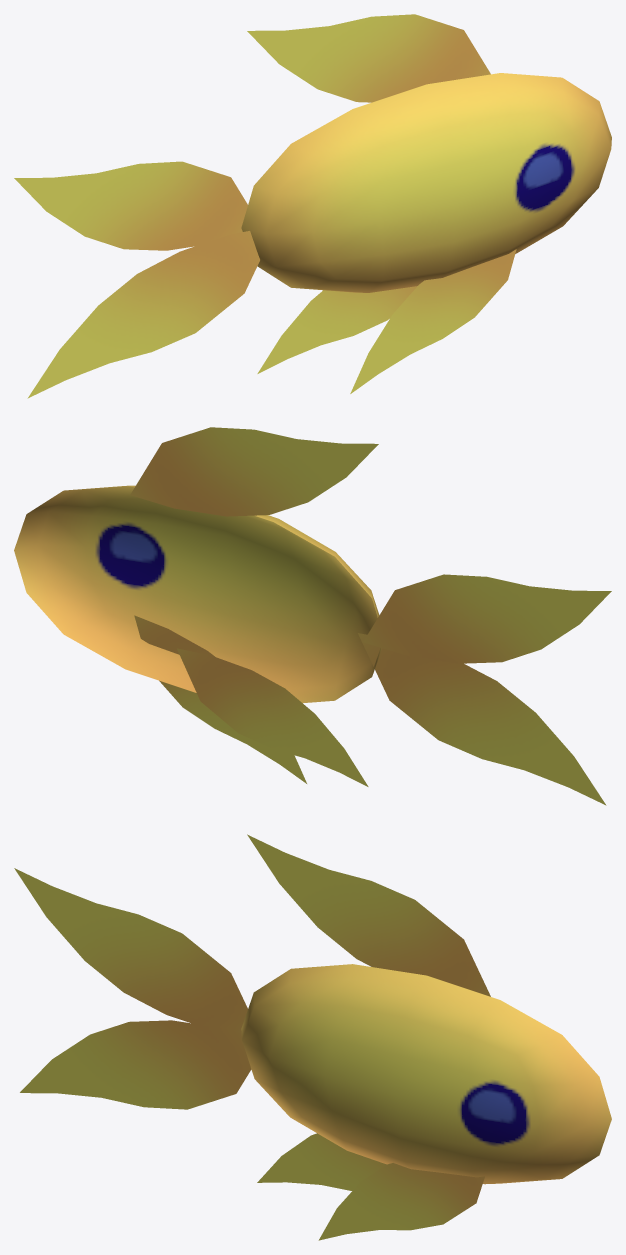
File: Fish002.fbx
3 renders of one model, top to bottom at view 1: azimuth 30°, elevation 25°; view 2: azimuth 150°, elevation 25°; view 3: azimuth 330°, elevation 25°, orthographic.
Parts seen in each view (by area): view 1: fish3; view 2: fish3; view 3: fish3.
Boxes of the visible parts, x1,y1,x2,y2 form: fish3: (14,14,611,398); fish3: (14,427,611,805); fish3: (14,834,611,1240).
Size of the model in its own units: 1.15 by 0.6852 by 0.0982.
1 material, 1 textured.
